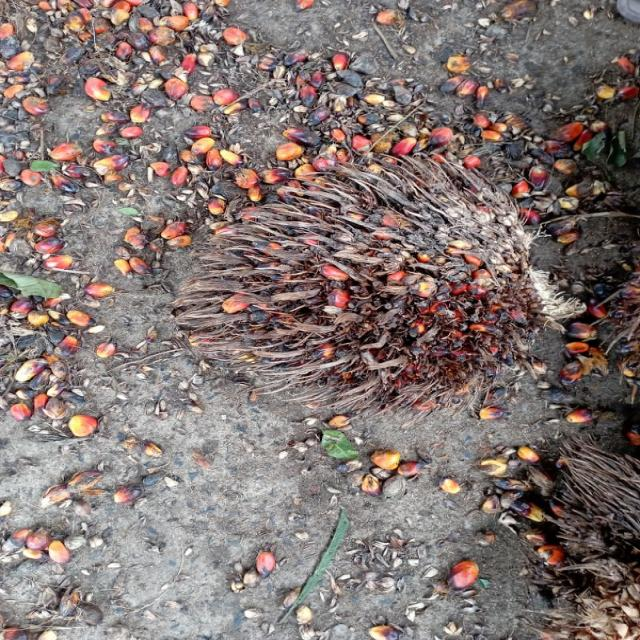fraksi 4: (108, 84, 588, 494)
